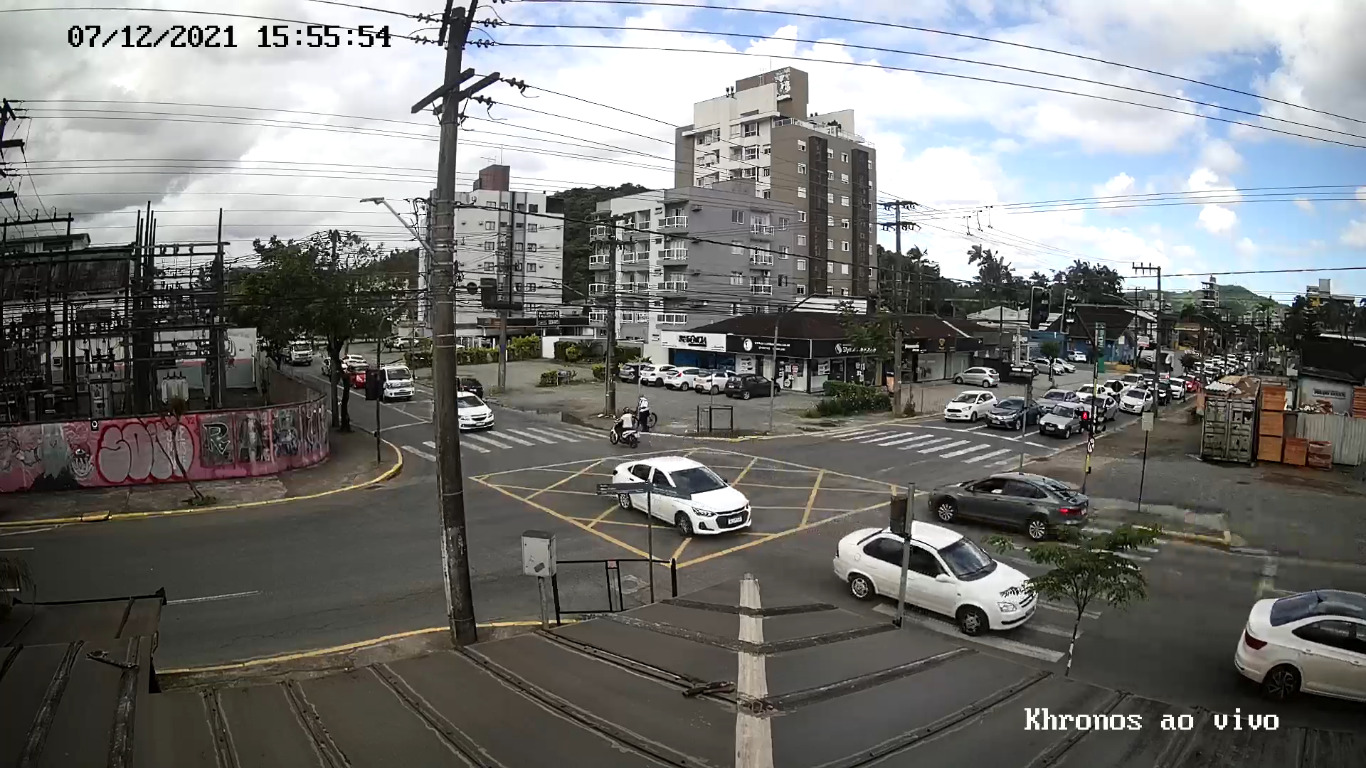car: (833, 520, 1039, 637), (1232, 589, 1366, 712), (928, 471, 1090, 541), (613, 456, 751, 536)
